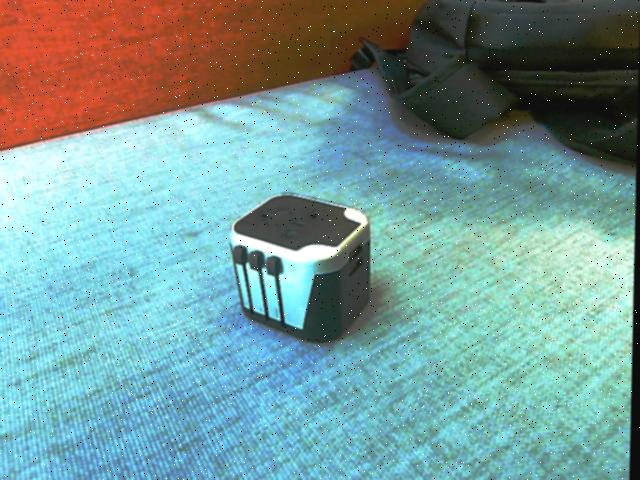adapter: (227, 193, 374, 343)
